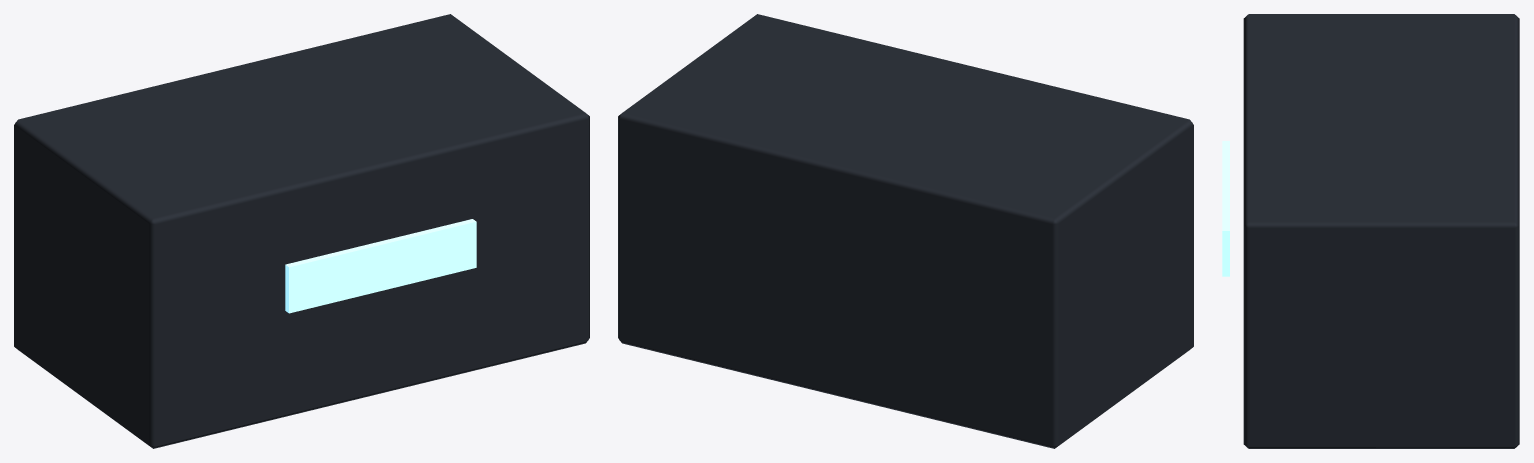
The picture shows the model from 3 angles, left to right: view 1: azimuth 30°, elevation 25°; view 2: azimuth 150°, elevation 25°; view 3: azimuth 270°, elevation 25°; orthographic projection.
Parts seen in each view (by area): view 1: product_body_reference_named_box, inset_rim_highlight_groove_lens_sensor_bevel_fake; view 2: product_body_reference_named_box; view 3: product_body_reference_named_box, inset_rim_highlight_groove_lens_sensor_bevel_fake.
Part boxes in pixels (left/top/right/bottom): product_body_reference_named_box: left=14, top=14, right=589, bottom=448; inset_rim_highlight_groove_lens_sensor_bevel_fake: left=285, top=219, right=476, bottom=313; product_body_reference_named_box: left=618, top=14, right=1193, bottom=448; product_body_reference_named_box: left=1243, top=14, right=1519, bottom=448; inset_rim_highlight_groove_lens_sensor_bevel_fake: left=1222, top=141, right=1229, bottom=276.
Size of what is drawn, in the model's own units: 2 by 1 by 1.19.
